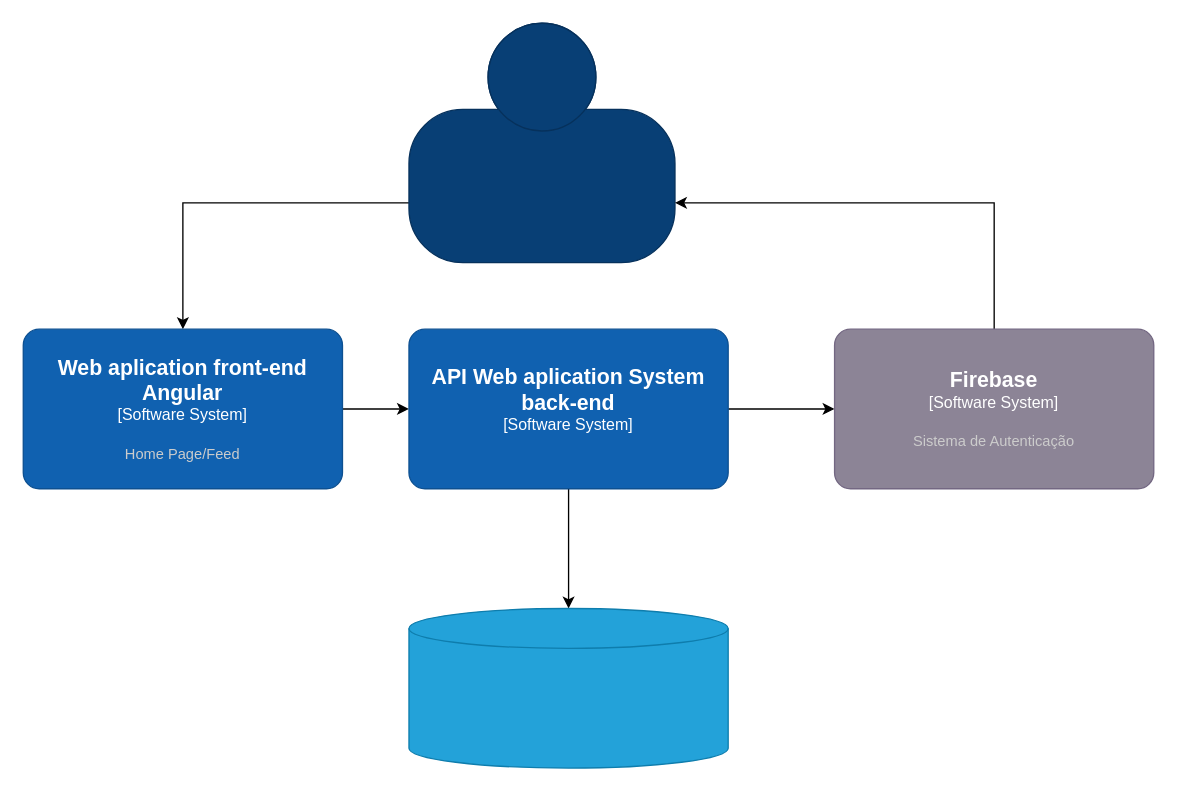
This 1177x791 diagram has some shape labels left out. The shapes that lost their labels are listed below. From the top down, each one's centre as x and y in pixels, then its label:
point 541,142: Rede Social [Person] Uma rede social simples
point 568,687: Database [Banco de Dados Back-end: MySQL] Banco de Dados Back-end
